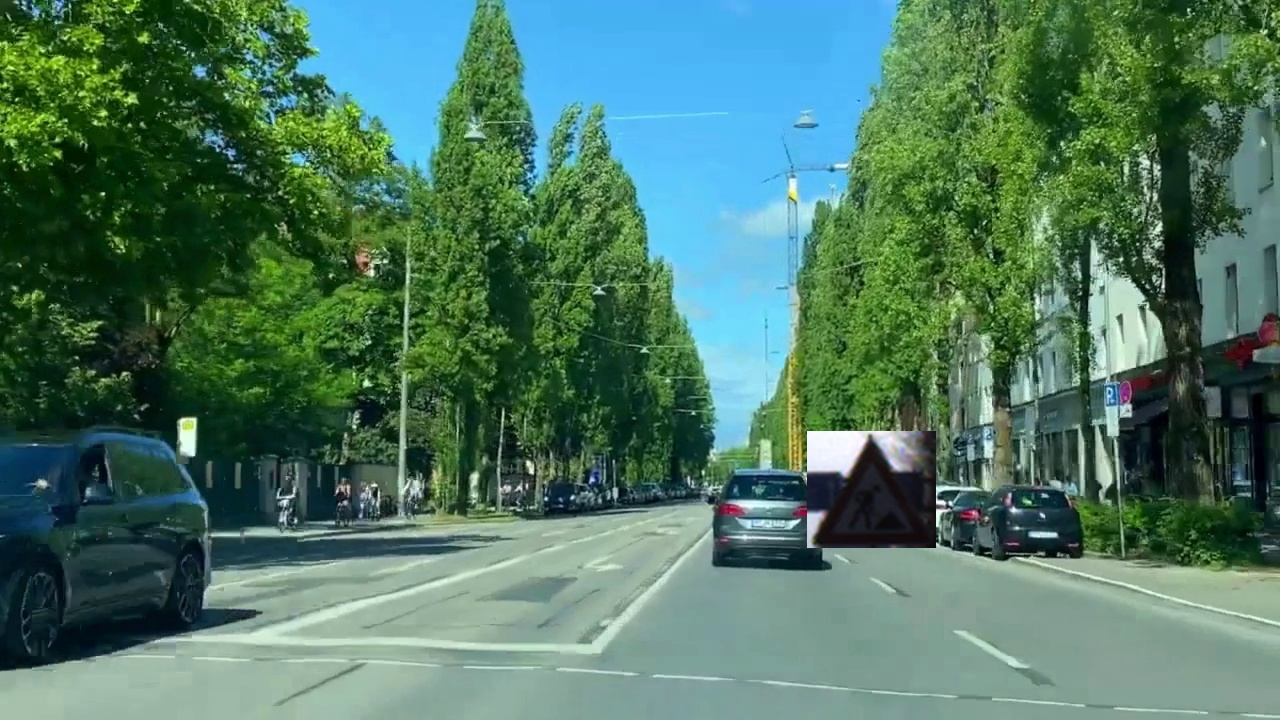Road work: (807, 431, 936, 548)
